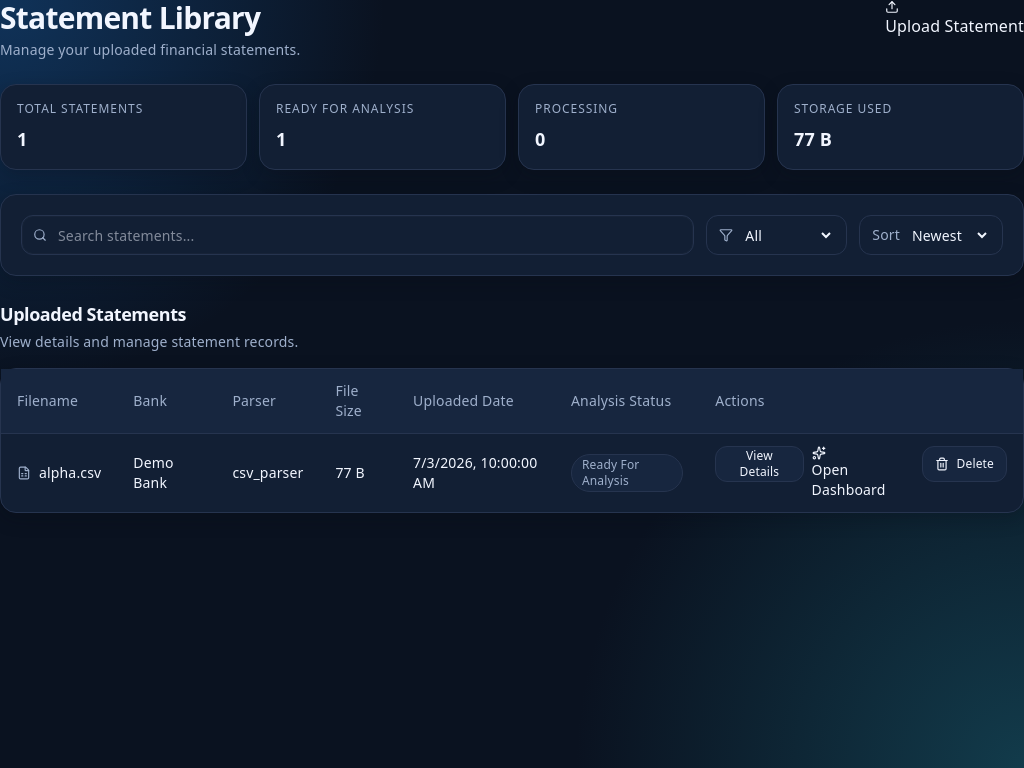
AppStatementsPage › filters and searches enriched transactions inside modal
Click the button "View Details" at (759, 464), box [715,446,804,482]
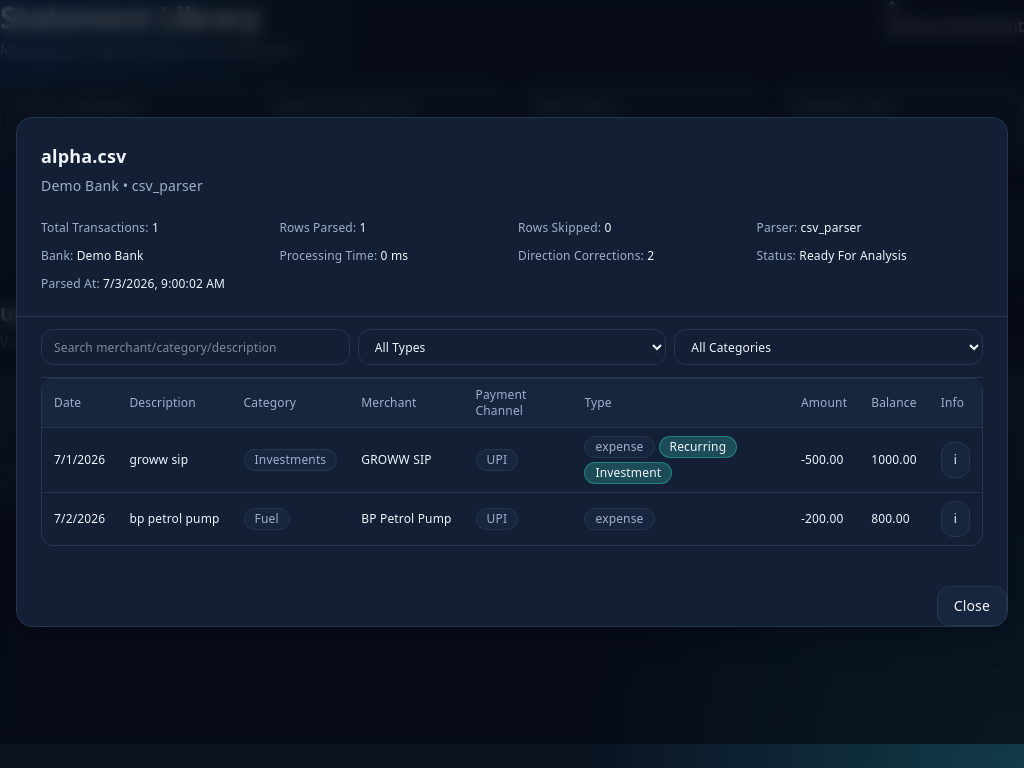
Expected: the text "GROWW SIP" is shown, [349,428,464,492]
Expected: the text "expense" next to "Recurring" is shown, [596,438,644,455]
Type "groww" into the field named "Search transactions" at (195, 347), box [41,329,350,365]
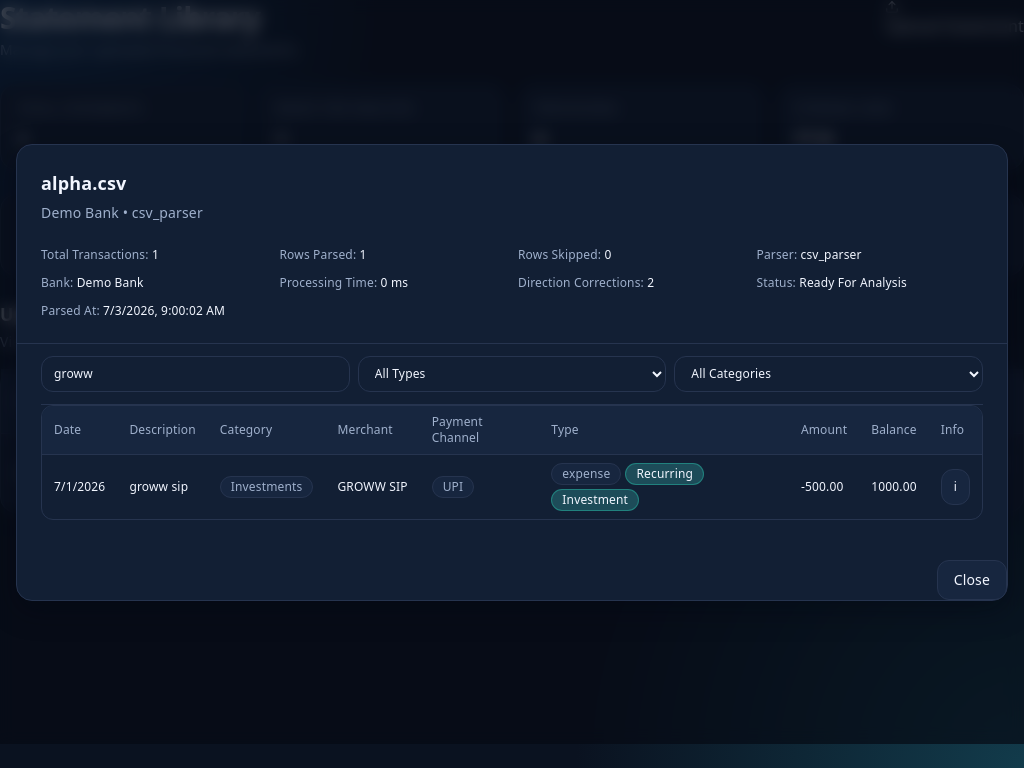
Expected: the text "GROWW SIP" is shown, [325,454,420,518]
Expected: the text "bp petrol pump" is gone
Clear the field named "Search transactions" at (195, 374), box [41,356,350,392]
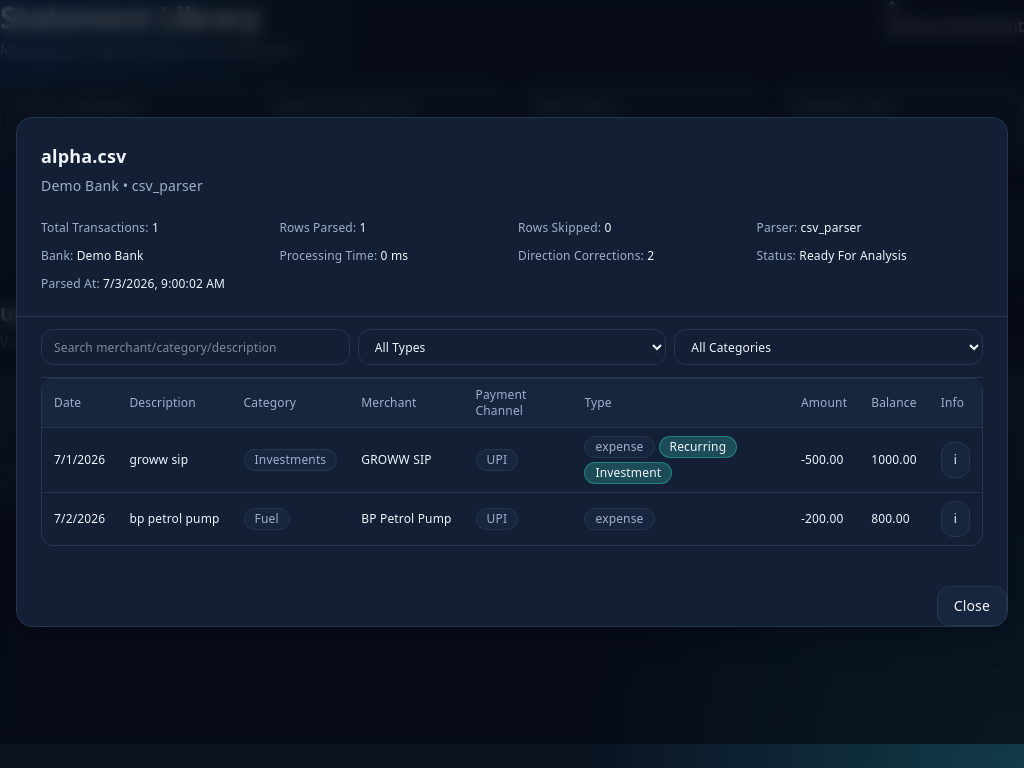
Select "Fuel" in the dropdown named "Filter transactions by category" at (829, 347), box [674,329,983,365]
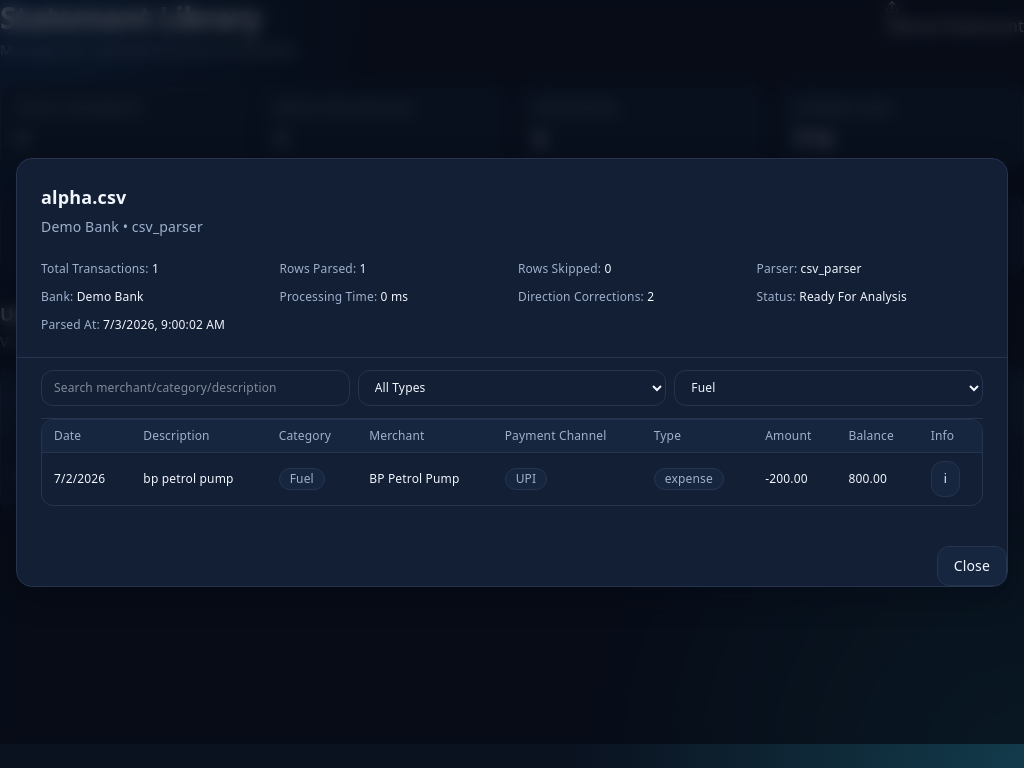
Expected: the text "BP Petrol Pump" is shown, [357,452,493,504]
Expected: the text "groww sip" is gone
